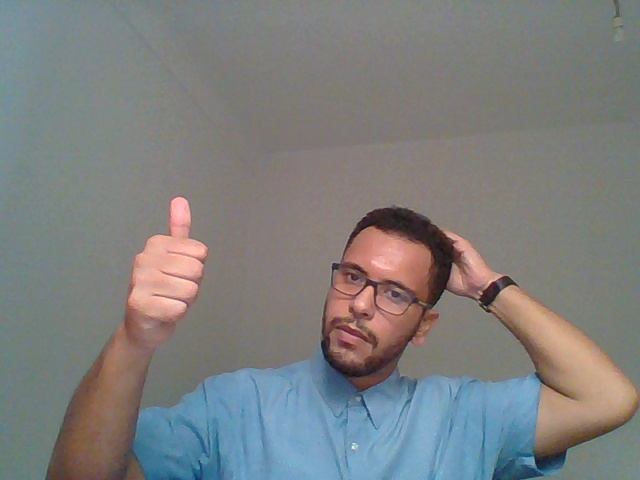ok: (87, 160, 231, 422)
